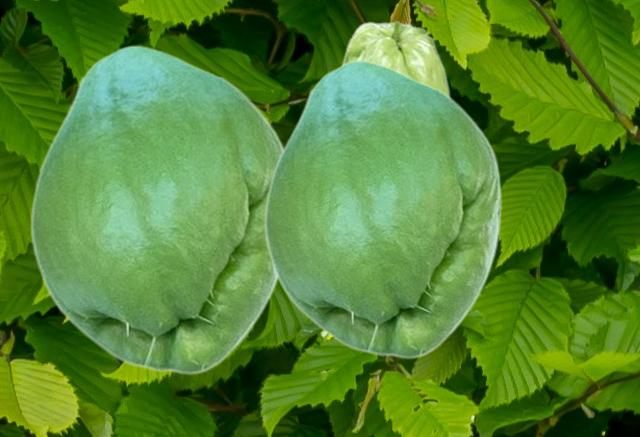sayote: (29, 45, 283, 375), (263, 60, 501, 359), (340, 20, 451, 95)
